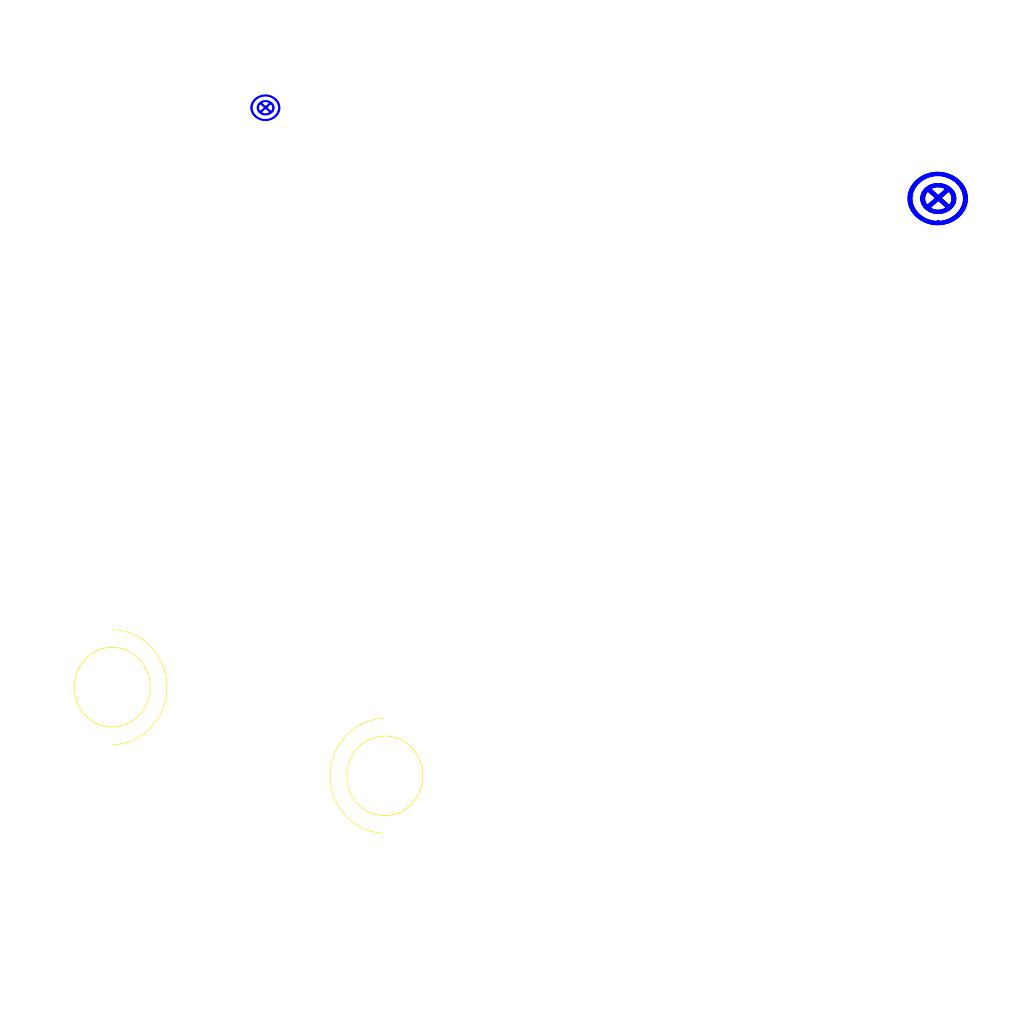Scheinwerfer_fuer_Alarmbeleuchtung: (61, 618, 173, 750), (324, 713, 436, 845)
Taster_beleuchtet: (905, 165, 971, 231), (249, 91, 282, 124)
